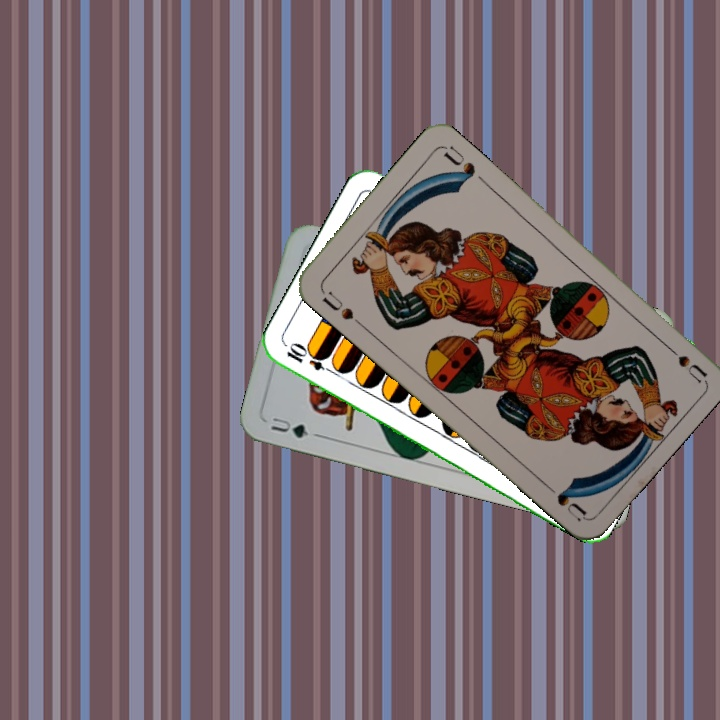E10: (282, 341, 339, 377)
GU: (267, 413, 311, 441)
SU: (657, 337, 709, 384), (318, 287, 366, 329)
